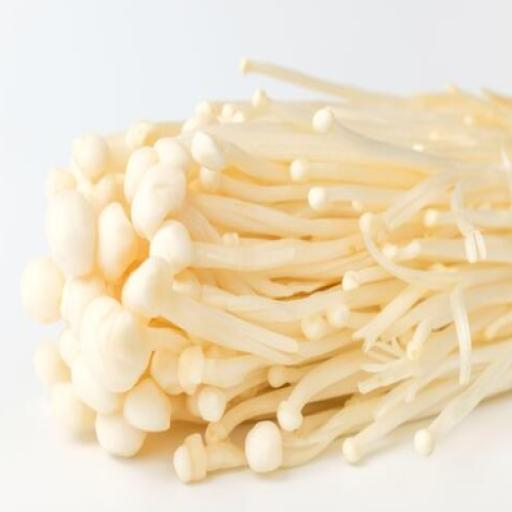Enoki Mushroom: (22, 50, 512, 475)
